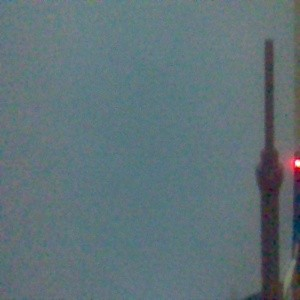obeng: (255, 37, 286, 300)
